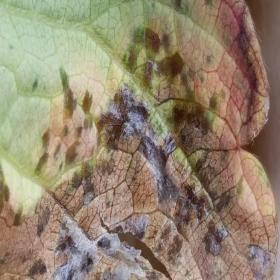Angular Leafspot: (0, 0, 279, 279)
